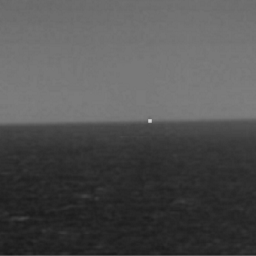Target: (146, 118, 152, 124)
